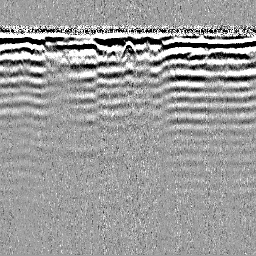cavity: (119, 39, 138, 59)
